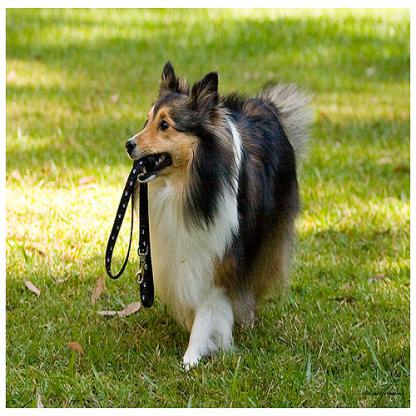Shetland_sheepdog: (123, 58, 316, 367)
